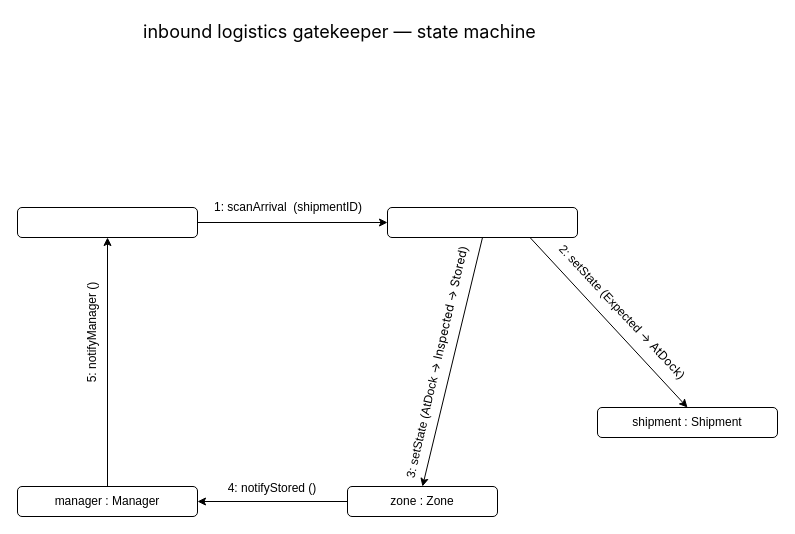
Some shapes in this 795 by 534 pixel diagram are drawn without their labels. The centre of each missing label's shape, as x and y in pixels:
"floorStaff : FlorrStaff" belongs at pixel 107 222.
"getekeeper : InboundGatekepper" belongs at pixel 482 222.
